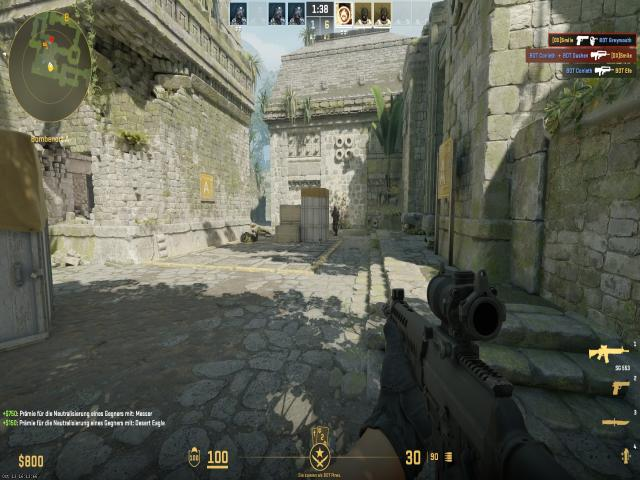CT: (328, 203, 343, 238)
CT-Head: (333, 205, 339, 216)
Dead: (235, 232, 259, 249), (252, 225, 272, 240)
